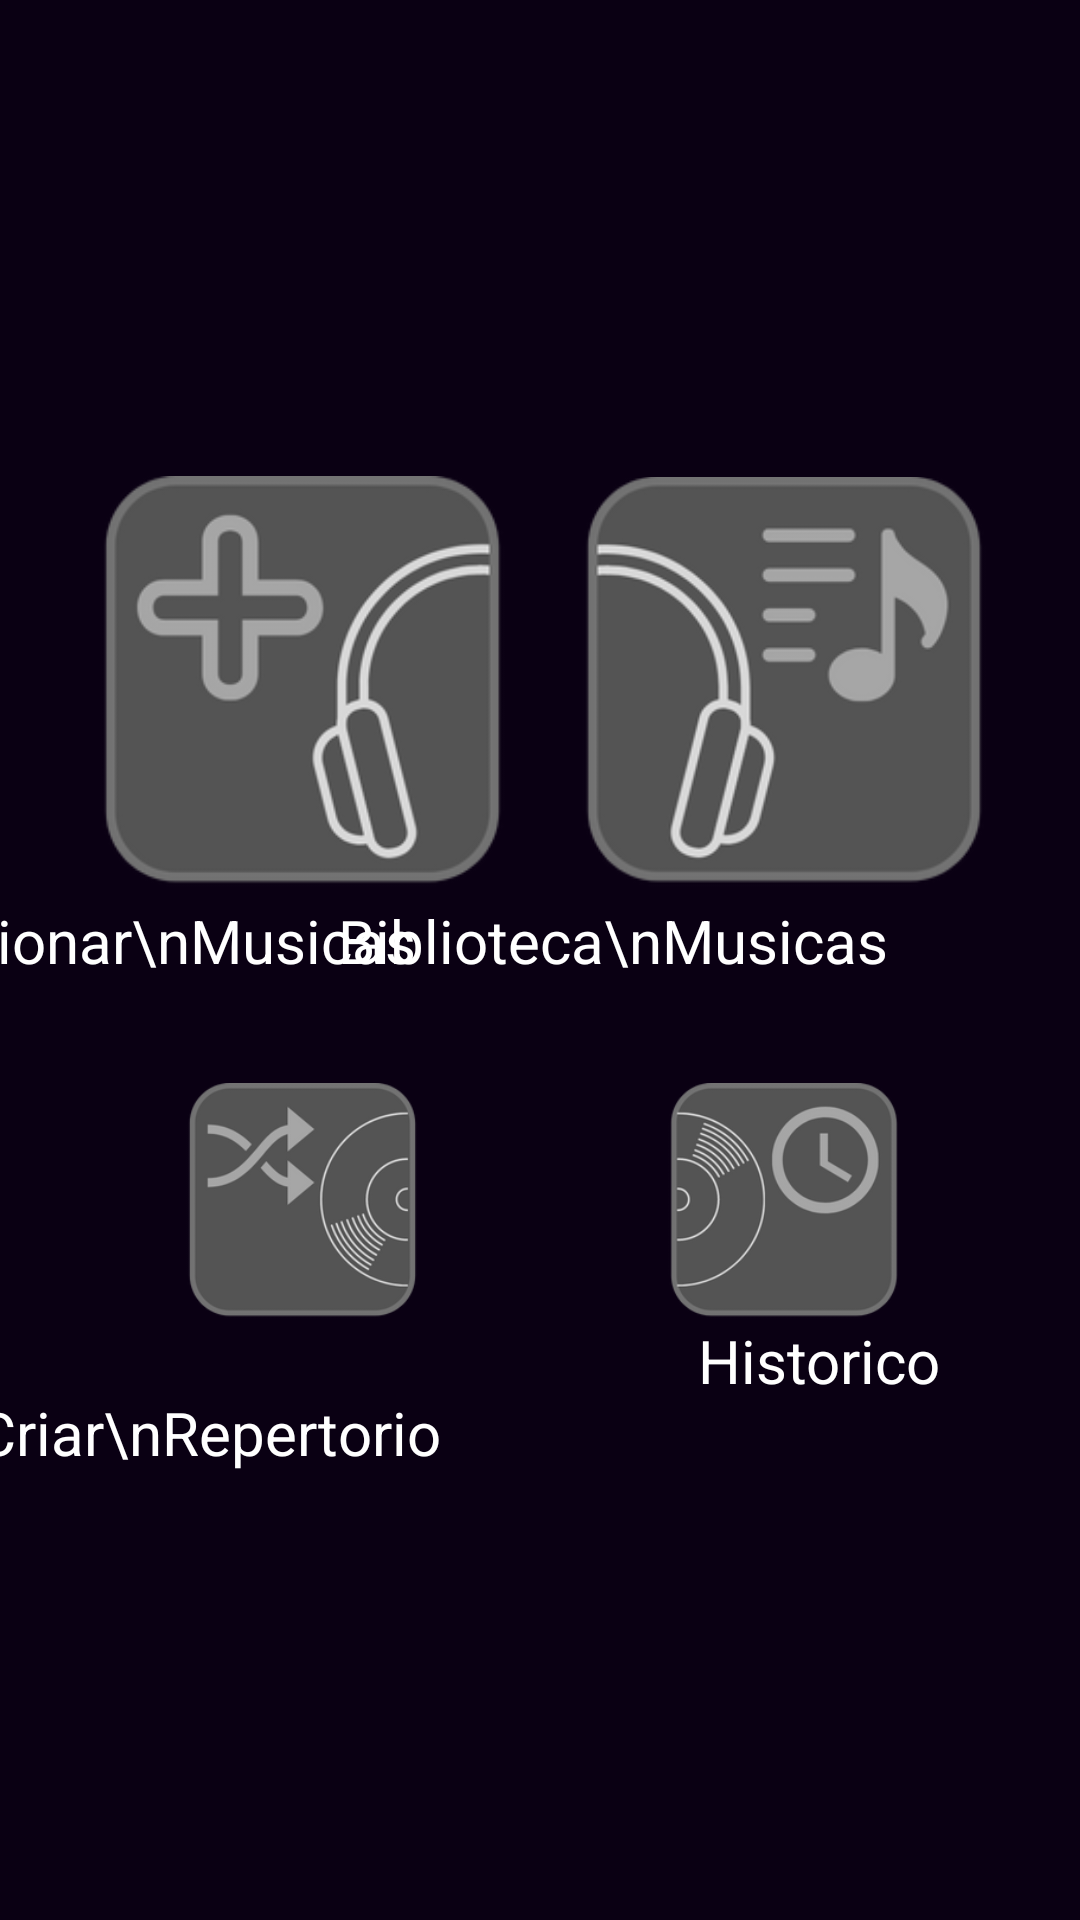

Icons on this 1080 × 1920 Android screen, each with the point to tap as [x,y]:
create repertory: [302,1199]
